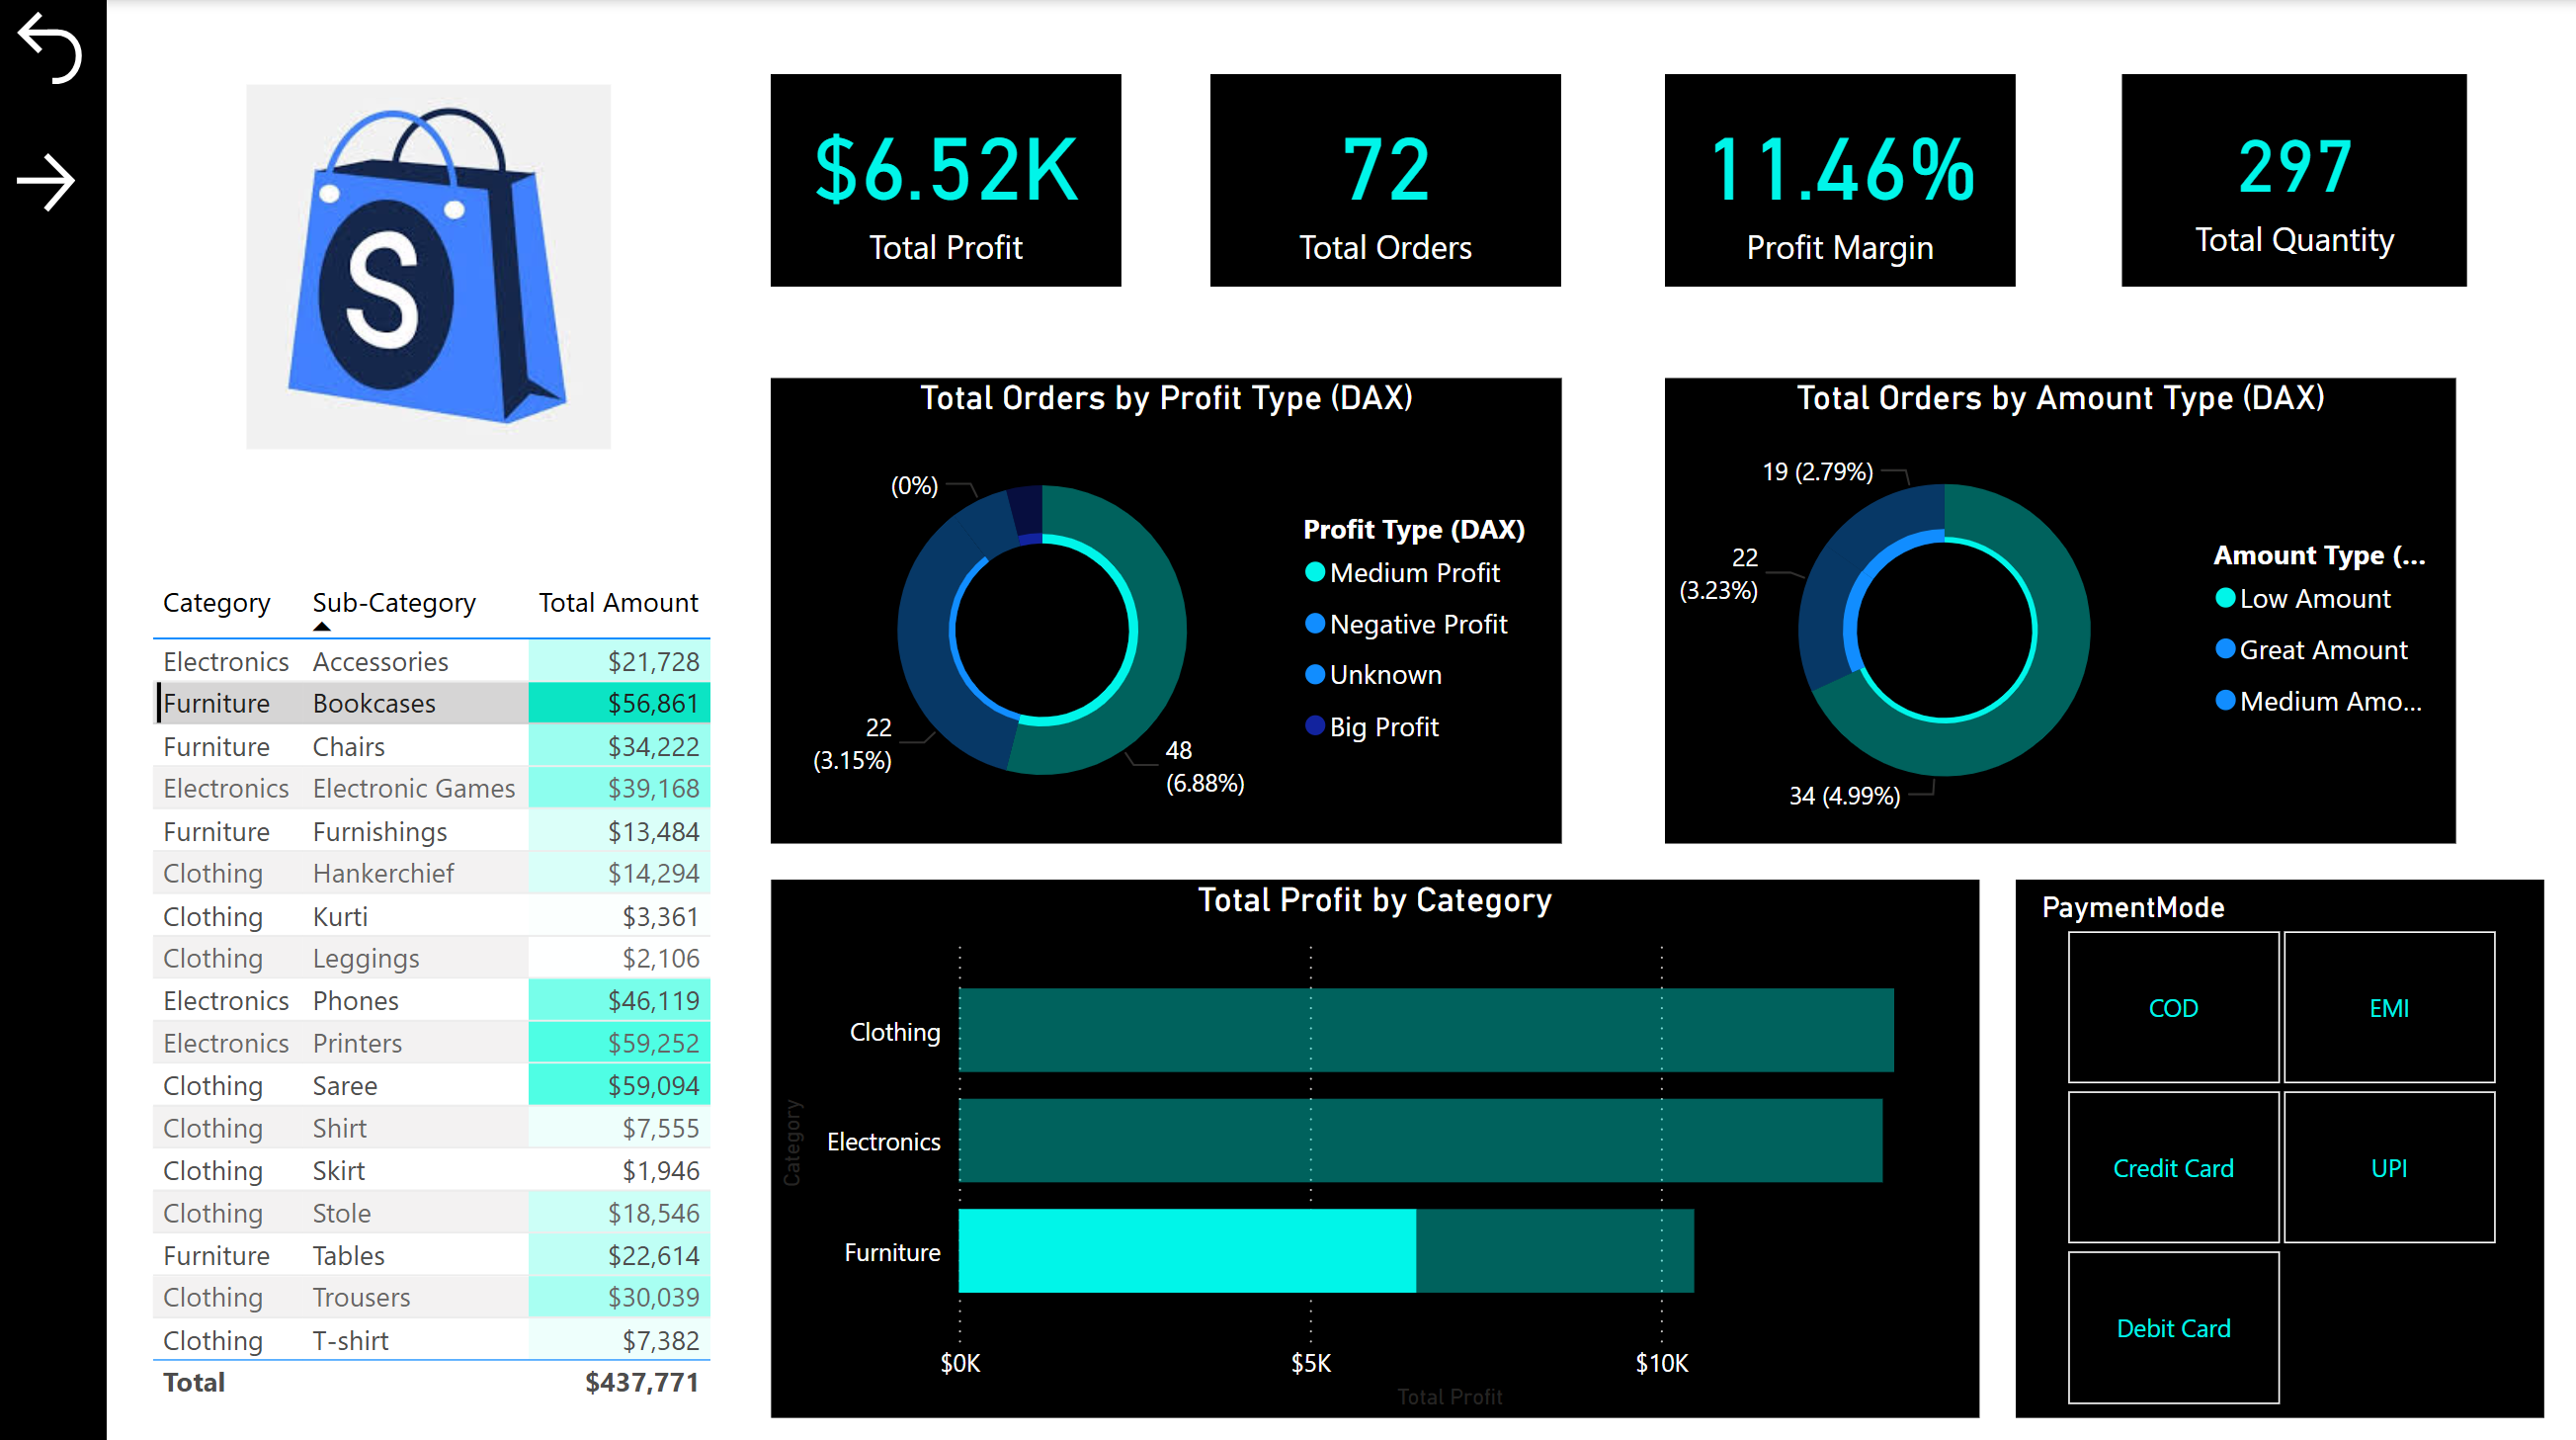

This screenshot's page, from the dashboard's own definition file:
{"tool":"powerbi","page":{"name":"Overall Evaluation","canvas":[1280,720],"ordinal":0},"visuals":[{"type":"card","fields":{"Values":["New Measures.Total Orders"]},"box":[599.7,37.2,173.5,105.3],"z":0},{"type":"card","fields":{"Values":["New Measures.Profit Margin"]},"box":[824,37.2,173.5,105.3],"z":1000},{"type":"card","fields":{"Values":["New Measures.Total Quantity"]},"box":[1050.8,37.2,171,105.3],"z":2000},{"type":"card","fields":{"Values":["New Measures.Total Profit"]},"box":[381.6,37.2,173.5,105.3],"z":3000},{"type":"clusteredBarChart","fields":{"Category":["Details.Category"],"Y":["New Measures.Total Profit"]},"box":[381.6,434.9,598.5,266.4],"z":4000},{"type":"tableEx","fields":{"Values":["Details.Category","Details.Sub-Category","New Measures.Total Amount"]},"box":[69.7,282.5,311.8,425.5],"z":5000},{"type":"donutChart","fields":{"Category":["Details.Profit Type (DAX)"],"Y":["New Measures.Total Orders"]},"box":[381.6,187.1,391.6,230.5],"z":6000},{"type":"donutChart","fields":{"Category":["Details.Amount Type (DAX)"],"Y":["New Measures.Total Orders"]},"box":[824,187.1,391.6,230.5],"z":7000},{"type":"slicer","fields":{"Values":["Details.PaymentMode"]},"box":[997.5,434.9,261.5,266.4],"z":8000},{"type":"shape","box":[0,0,52.9,720],"z":10000},{"type":"actionButton","box":[1.2,0,50.8,47.1],"z":11000},{"type":"actionButton","box":[2.9,70.7,49.1,39],"z":12000},{"type":"image","box":[107.6,36.7,209.1,190.8],"z":12001}]}

Visuals, with their boxes in screenshot pixels (x1, y1, x2, y2):
card - New Measures.Total Orders: 1208, 63, 1563, 279
card - New Measures.Profit Margin: 1668, 63, 2023, 279
card - New Measures.Total Quantity: 2132, 63, 2482, 279
card - New Measures.Total Profit: 762, 63, 1117, 279
clusteredBarChart - Details.Category x New Measures.Total Profit: 762, 878, 1987, 1423
tableEx - Details.Category x Details.Sub-Category: 123, 565, 761, 1437
donutChart - Details.Profit Type (DAX) x New Measures.Total Orders: 762, 370, 1563, 842
donutChart - Details.Amount Type (DAX) x New Measures.Total Orders: 1668, 370, 2469, 842
slicer - Details.PaymentMode: 2023, 878, 2558, 1423
shape: 0, 0, 88, 1439
actionButton: 0, 0, 86, 83
actionButton: 0, 131, 86, 212
image: 201, 61, 628, 453
